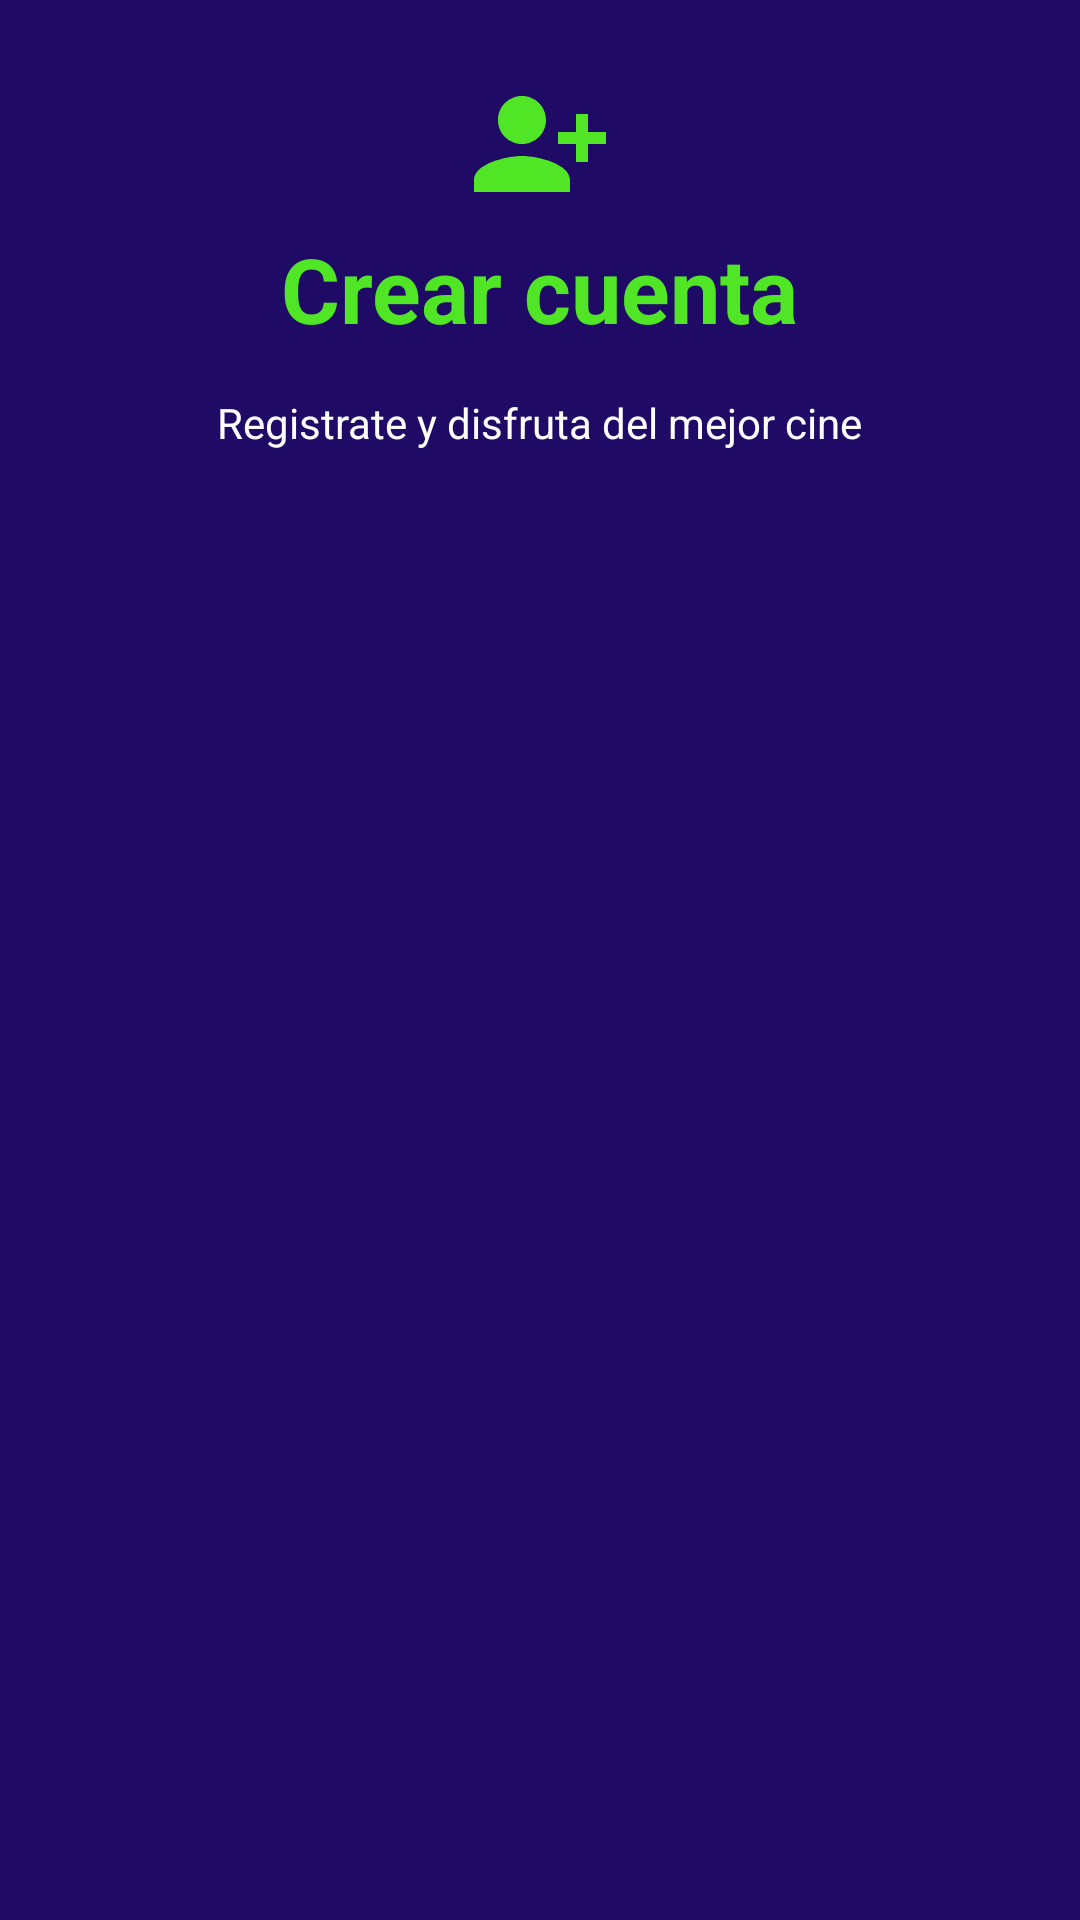

Where to tap for icons on this 1080×1920 app screen, as [x,y]:
person add: [540,144]
